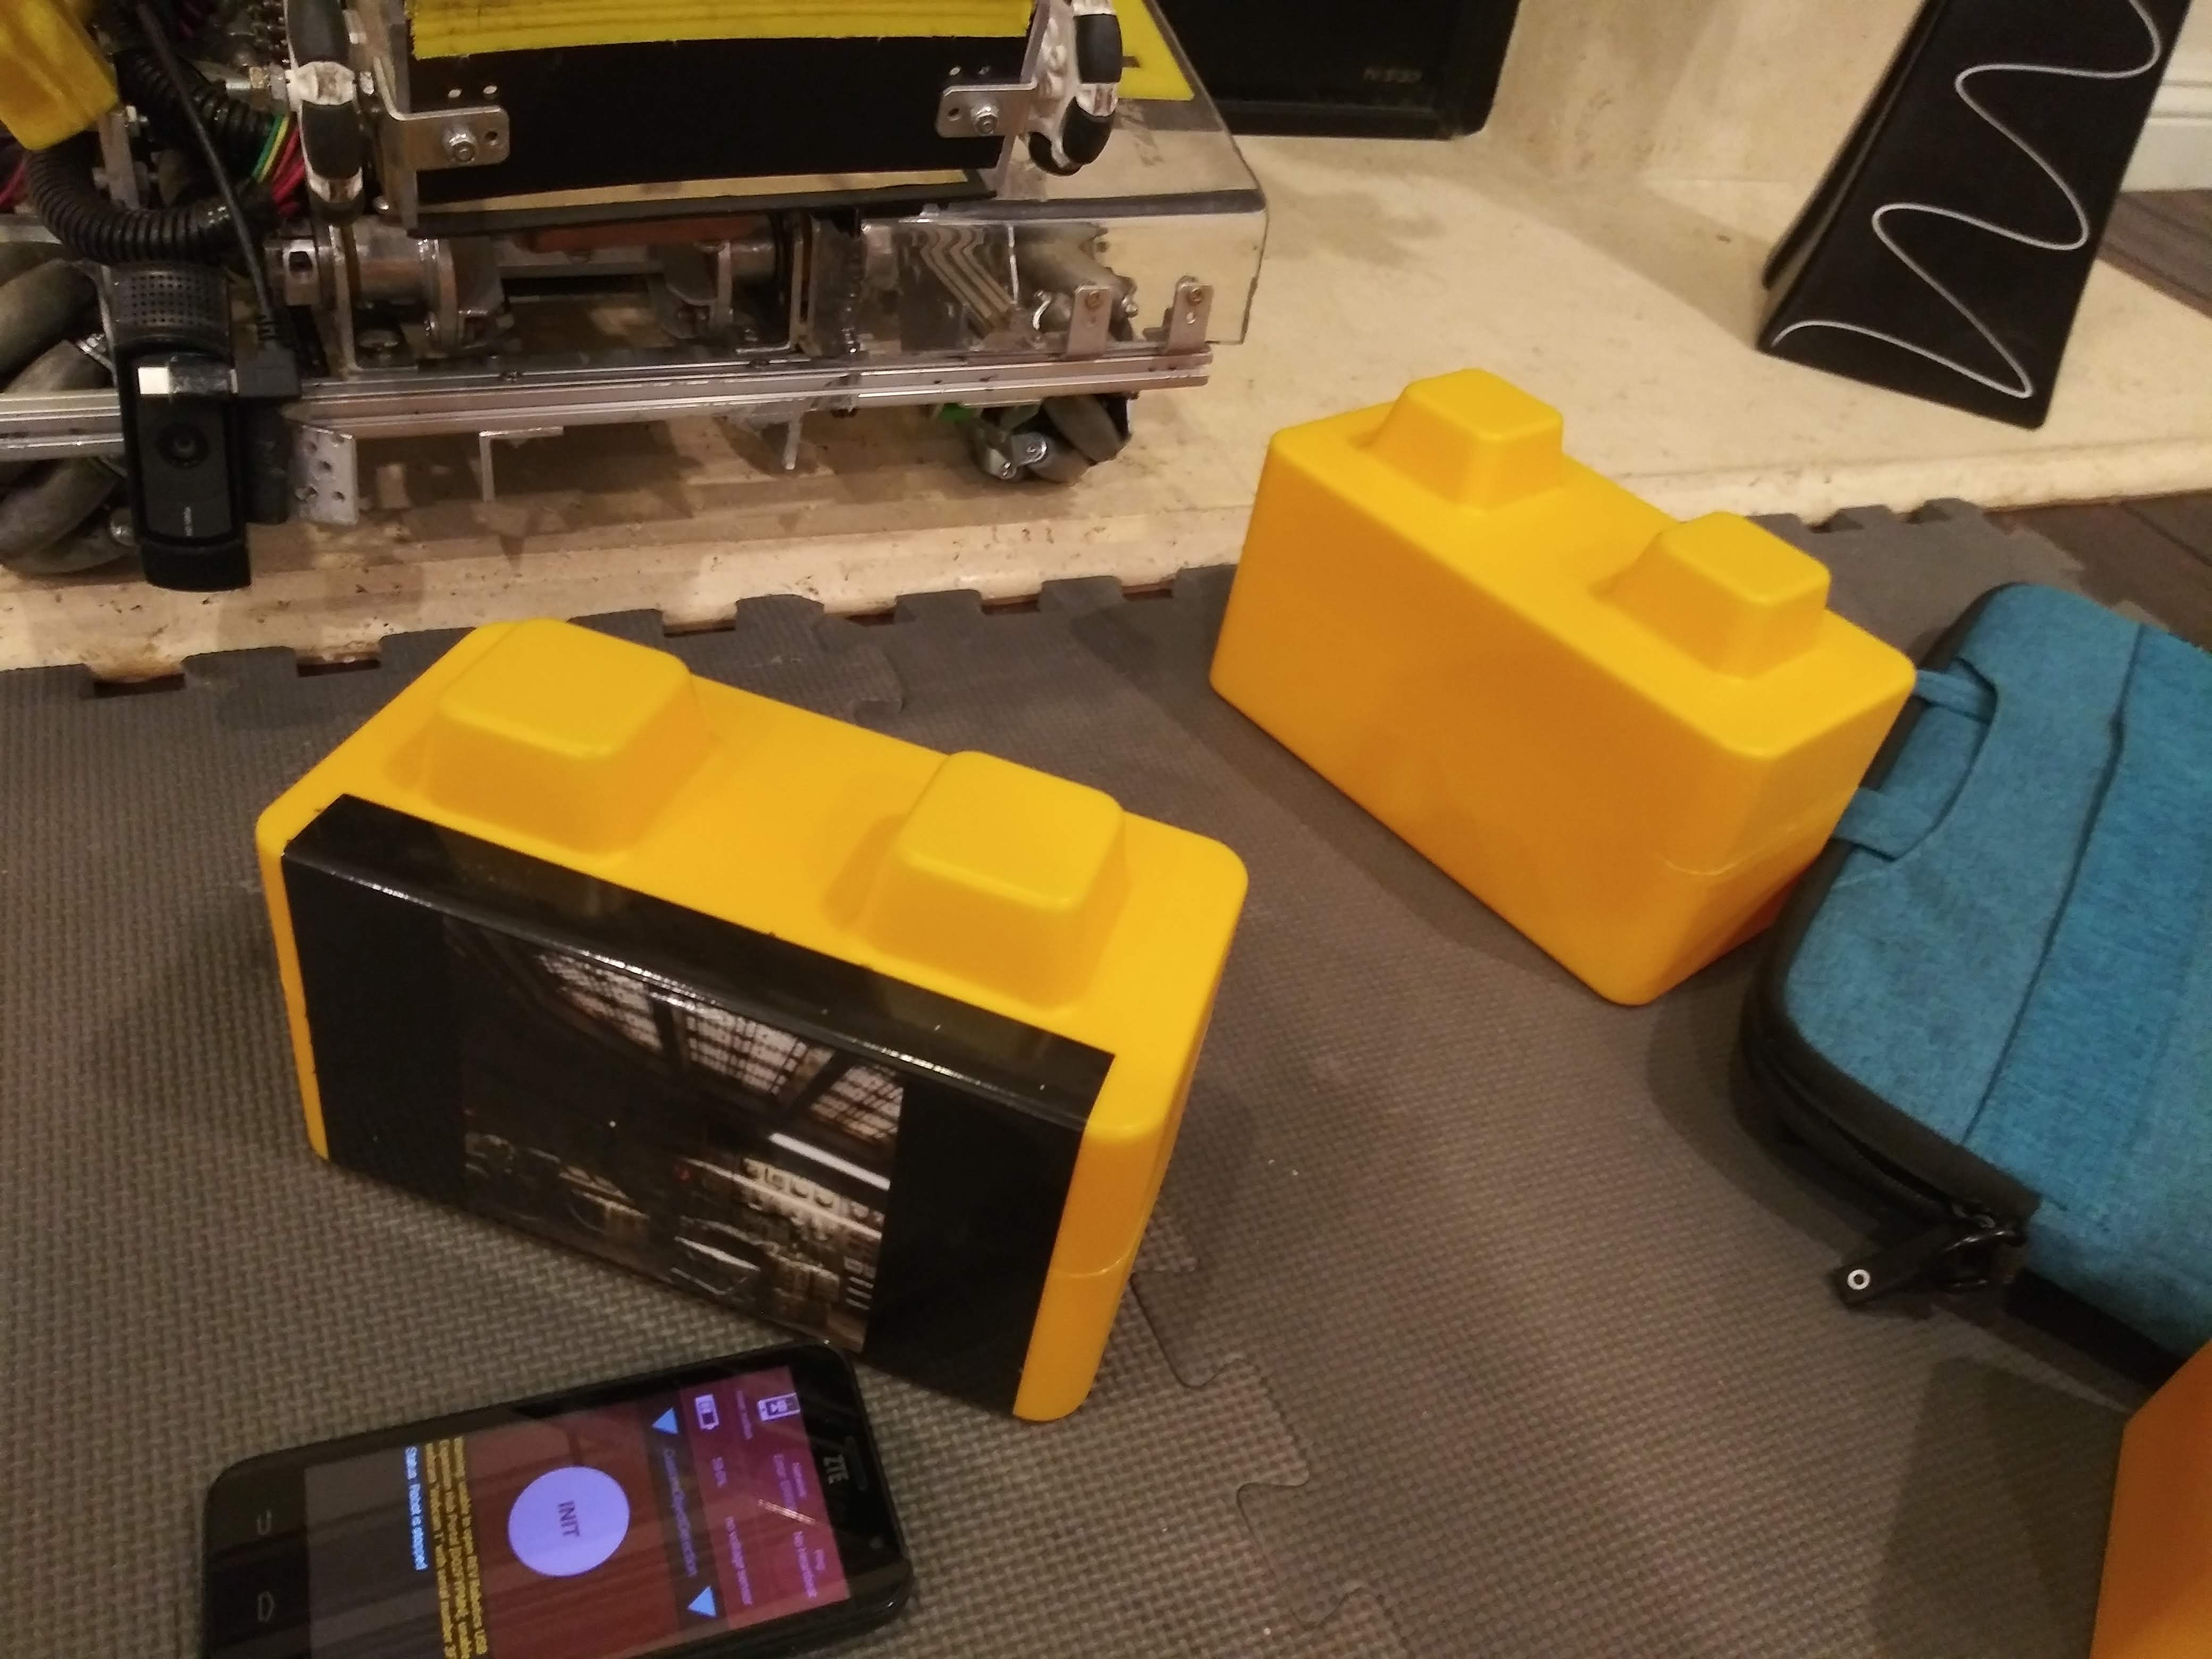skystone: (260, 713, 1120, 1392)
stone: (1251, 450, 1792, 983)
